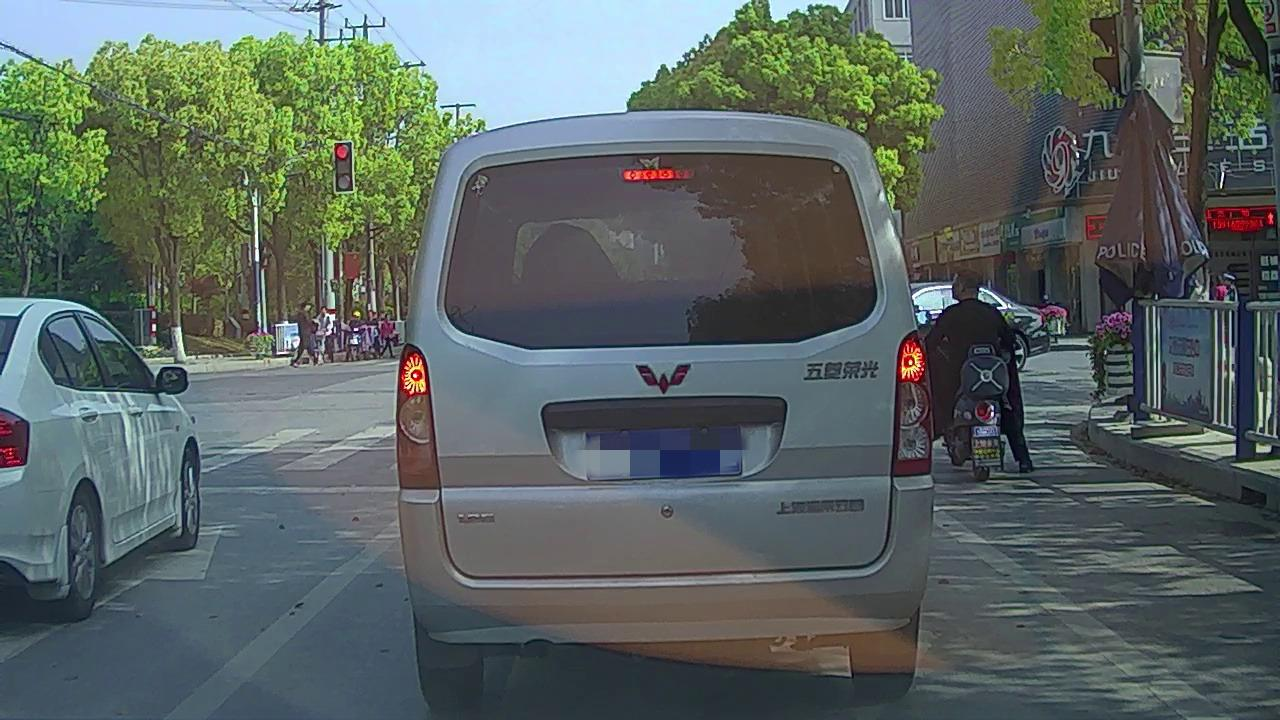traffic_light: (334, 142, 354, 192)
